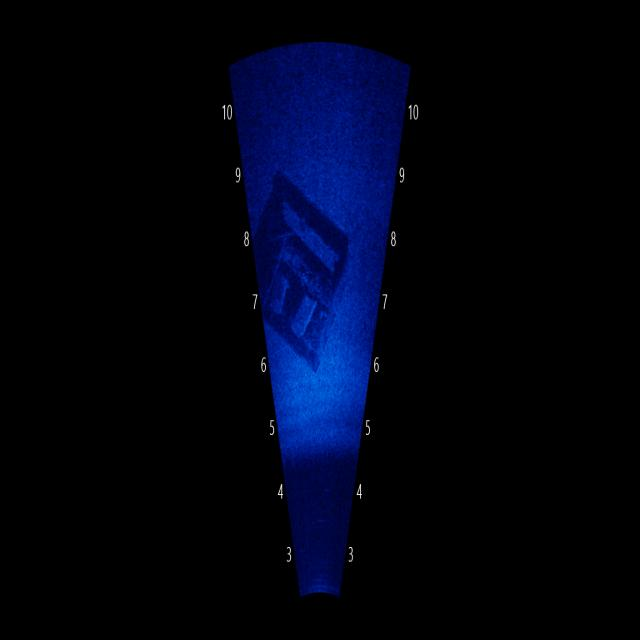square: (249, 169, 359, 380)
